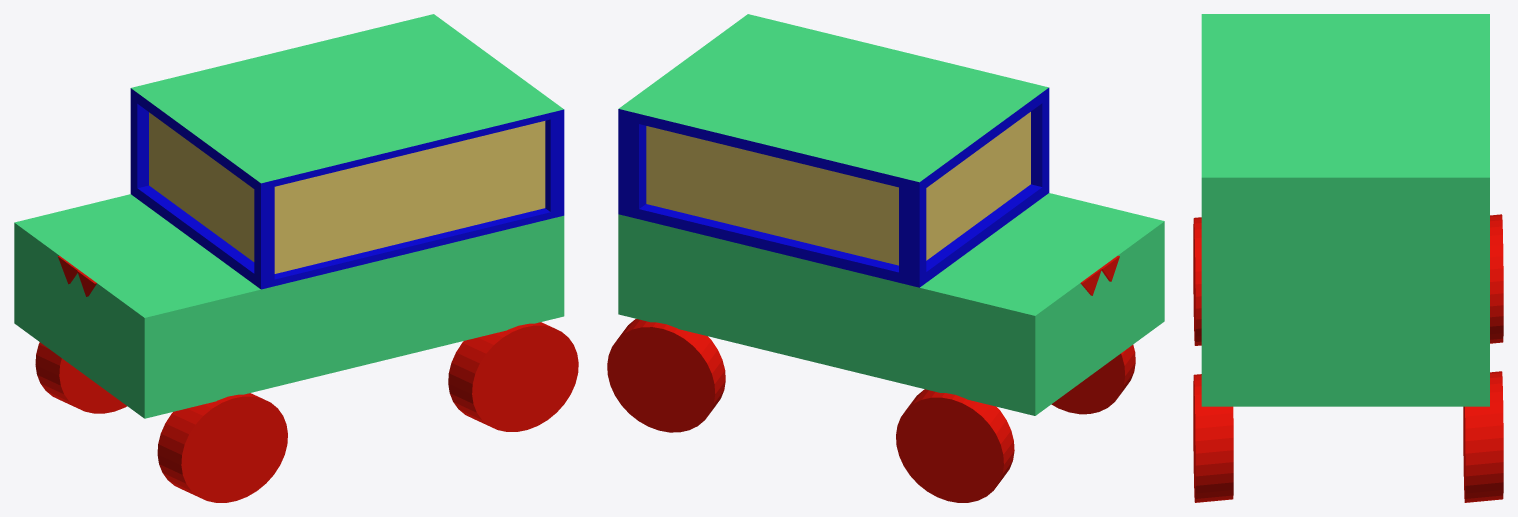
Rendered from araba.glb.
3 views of the same model, side by side, from view 1: azimuth 30°, elevation 25°; view 2: azimuth 150°, elevation 25°; view 3: azimuth 270°, elevation 25° (orthographic). The views are drawn at different scales.
Parts seen in each view (by area): view 1: Cube; view 2: Cube; view 3: Cube.
Boxes of the visible parts, bbox=[...] form: Cube: bbox=[14, 14, 578, 502]; Cube: bbox=[607, 14, 1164, 502]; Cube: bbox=[1193, 14, 1503, 502].
Bounding box in the file's own units: 2.61 × 1.77 × 1.46.
